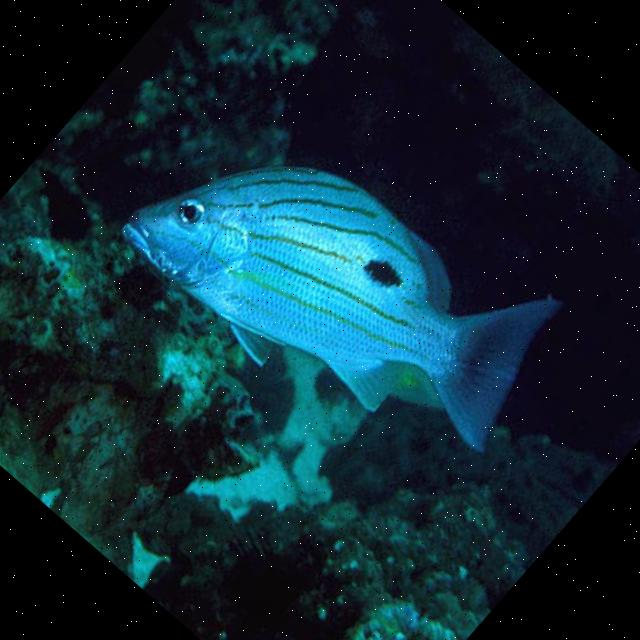ikan: (108, 48, 594, 517)
